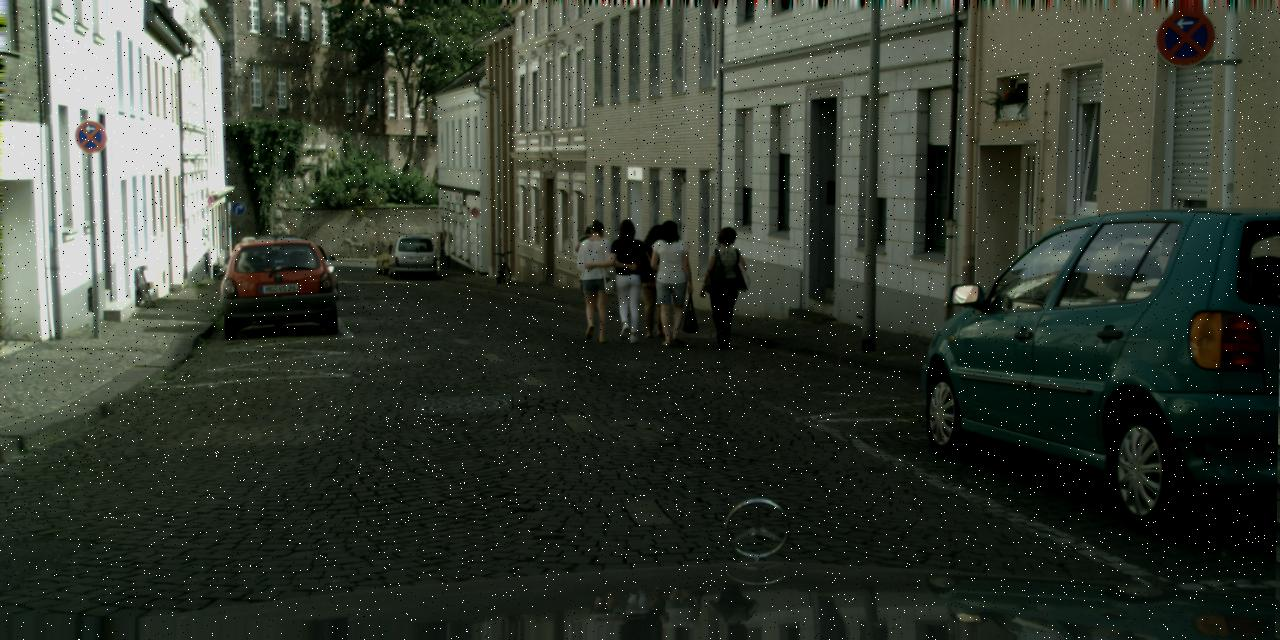ped: (646, 220, 696, 344), (604, 219, 653, 339), (701, 226, 750, 346), (572, 219, 620, 337), (634, 224, 680, 334)
